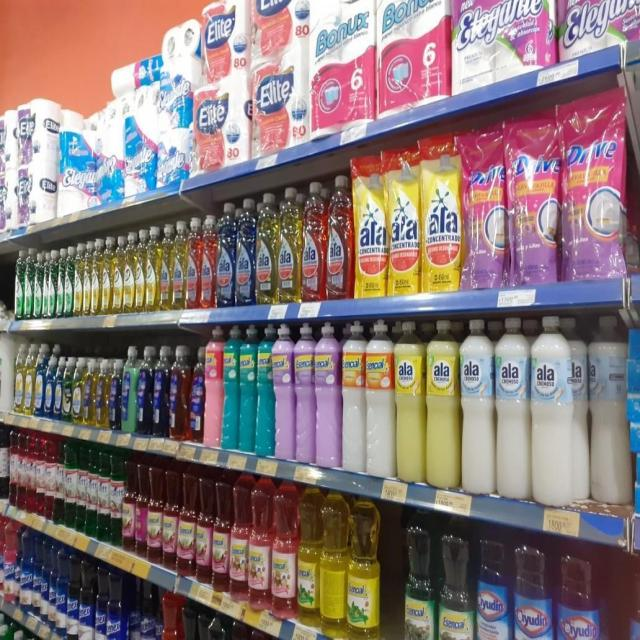ala_conc_amarillo: (278, 187, 301, 303), (256, 191, 277, 305), (173, 220, 186, 310), (160, 223, 172, 311)
ala_conc_azul: (236, 198, 256, 306), (216, 204, 235, 307)
ala_conc_rojo: (326, 175, 352, 300), (302, 182, 325, 302), (201, 214, 215, 309), (187, 216, 200, 310)
ala_crem_amarillo: (426, 318, 459, 490), (394, 320, 424, 483)
ala_crem_blanco: (531, 314, 587, 506), (589, 313, 628, 508), (496, 315, 530, 500), (460, 317, 494, 495)
ala_sachet_amarillo: (422, 134, 462, 293), (354, 152, 387, 299), (389, 145, 420, 297)
cif_conc_bot_amarilla: (146, 225, 159, 312), (135, 229, 145, 313), (124, 231, 134, 314), (113, 232, 123, 314), (102, 235, 112, 315), (92, 237, 102, 315), (73, 242, 83, 317), (83, 241, 91, 316)
cif_conc_botella_verde: (14, 248, 24, 320), (64, 245, 73, 318), (56, 247, 64, 318), (25, 248, 33, 319), (48, 248, 56, 319), (34, 249, 42, 319), (42, 248, 49, 319)
drive: (562, 90, 627, 282), (509, 111, 559, 287), (464, 122, 506, 290)
esencial: (294, 324, 314, 463), (274, 323, 294, 459), (256, 325, 274, 456), (239, 325, 255, 452), (222, 327, 238, 449)
magistral_con_amarillo: (24, 342, 34, 416), (14, 342, 24, 414), (83, 356, 93, 426), (72, 356, 82, 424), (62, 356, 72, 422)
magistral_con_azul: (44, 347, 54, 418), (35, 343, 44, 417), (54, 354, 62, 420)
zorro: (94, 358, 106, 428)
